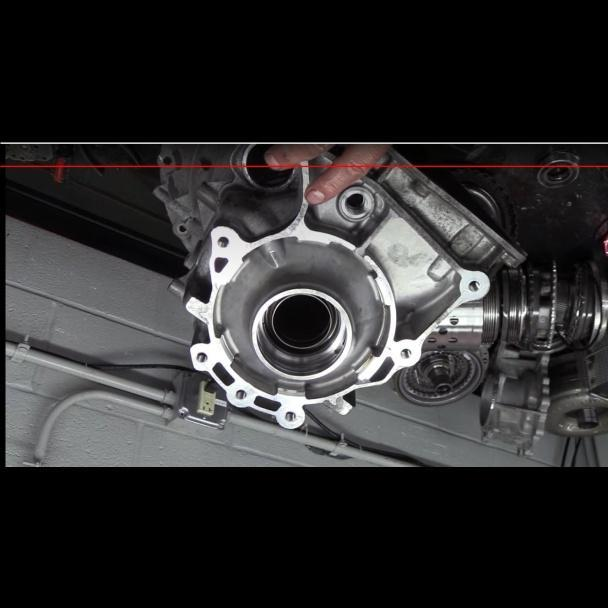hole: (215, 234, 230, 249), (397, 347, 412, 360), (466, 279, 480, 292), (193, 351, 207, 364), (283, 411, 296, 424), (232, 389, 246, 401)
